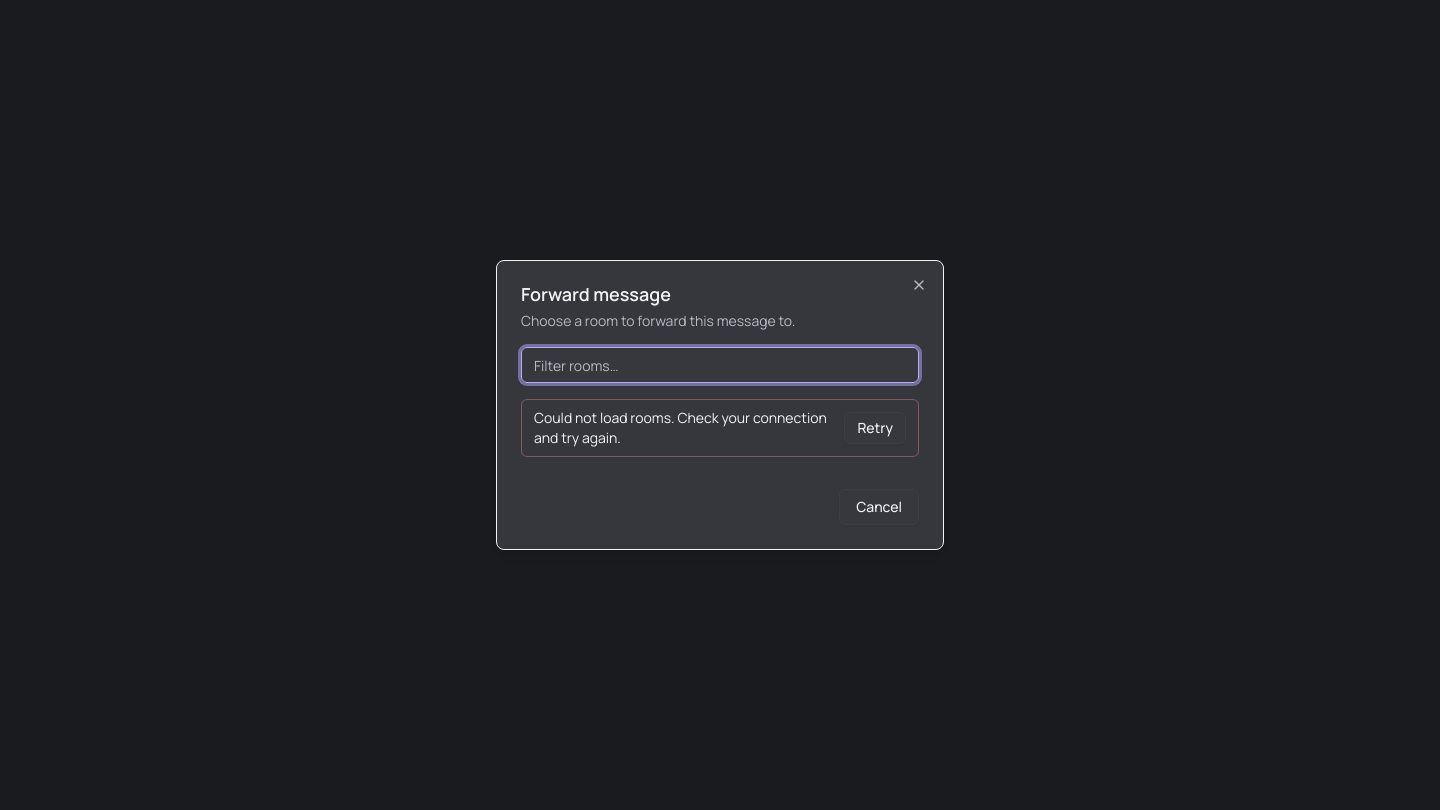
ForwardMessageDialog › shows a room-loading error and retries the query
This screenshot has width=1440, height=810.
Expected: the message reads "Could not load rooms. Check your connection and try again.", x1=534 y1=408 x2=827 y2=447
Step 1. Click the button "Retry" → [875, 428], box x1=844 y1=412 x2=906 y2=444
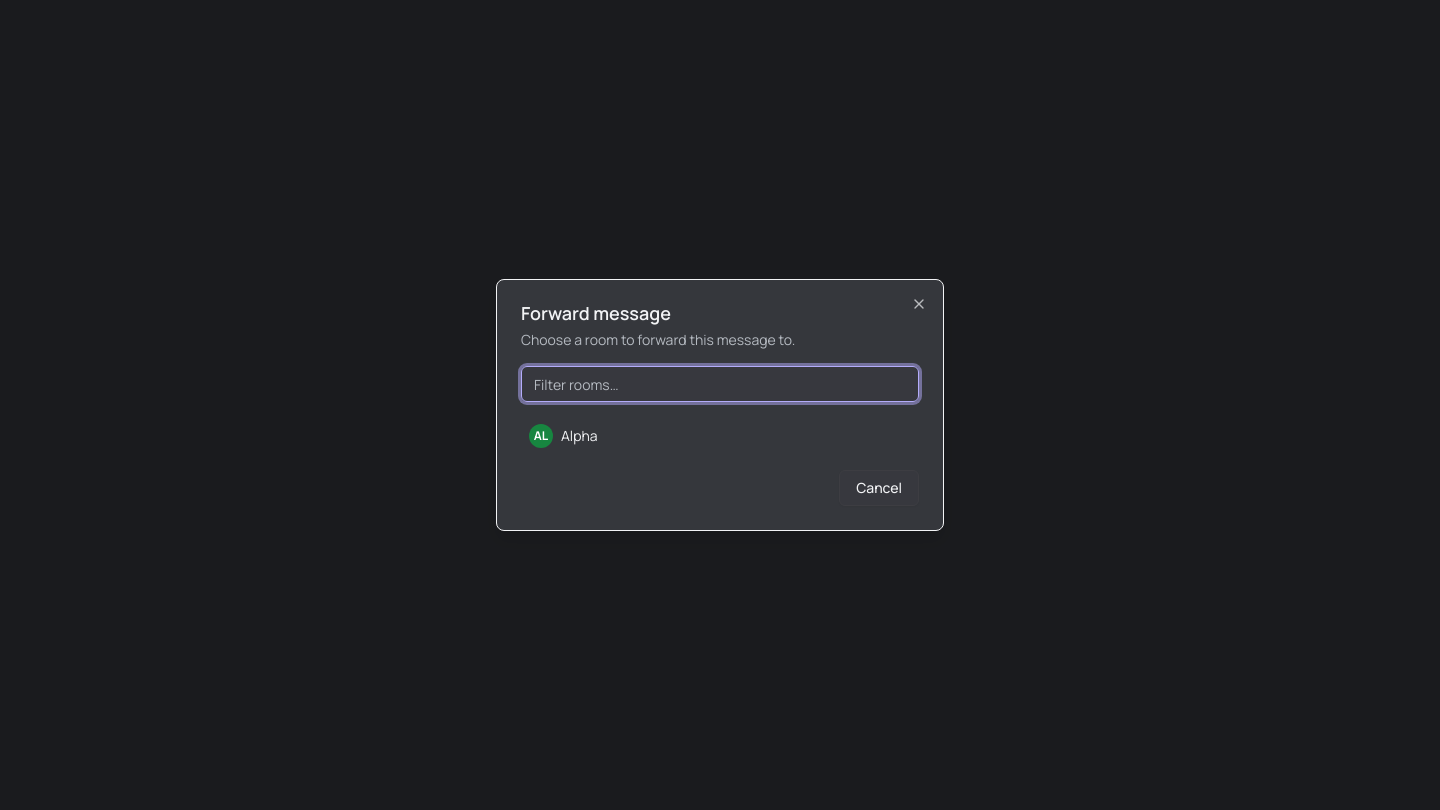
Result: the text "Alpha" is shown at x1=561 y1=426 x2=598 y2=446
Result: the message "Could not load rooms. Check your connection and try again." is gone
